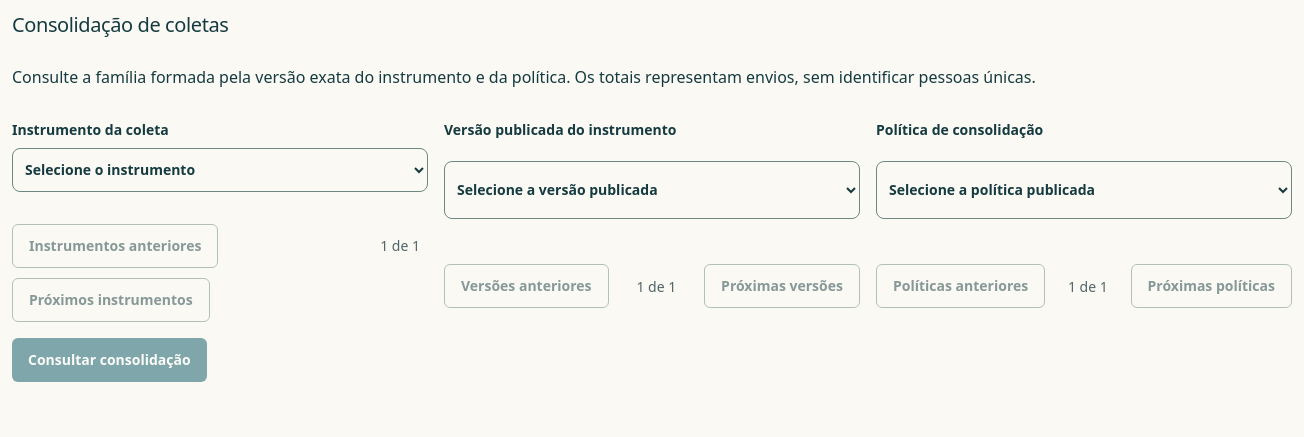
Test: recusa payload de outra família antes da renderização
Select "Instrumento coletivo" in the dropdown labelled "Instrumento da coleta" at {"x": 220, "y": 170}, box x1=12 y1=148 x2=428 y2=192
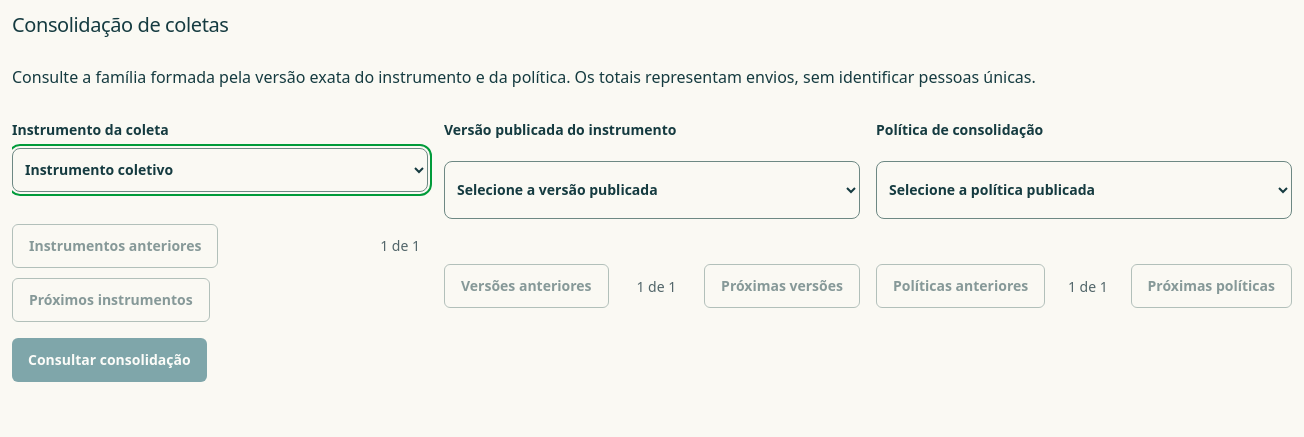
Select "Planejamento publicado · v2 · Demonstração" in the dropdown labelled "Versão publicada do instrumento" at {"x": 652, "y": 190}, box x1=444 y1=161 x2=860 y2=219
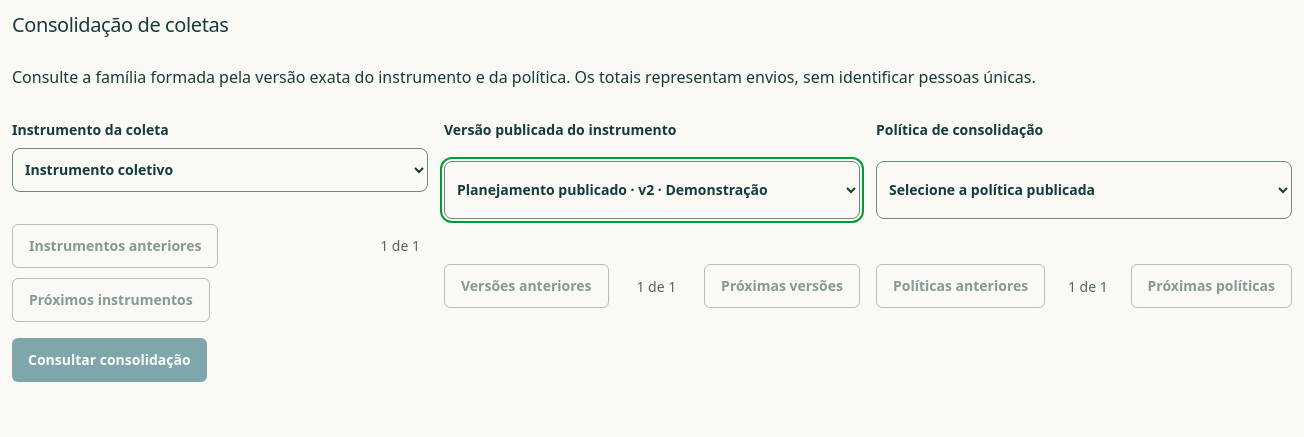
Select "Política v3 · Demonstração" in the dropdown labelled "Política de consolidação" at {"x": 1084, "y": 190}, box x1=876 y1=161 x2=1292 y2=219
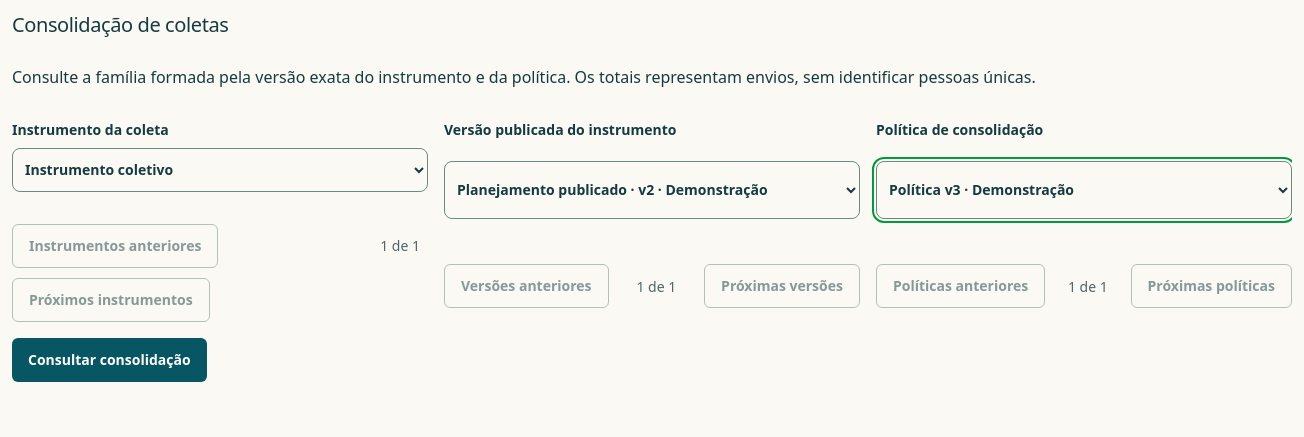
Click the button "Consultar consolidação" at {"x": 109, "y": 360}, box x1=12 y1=338 x2=207 y2=382
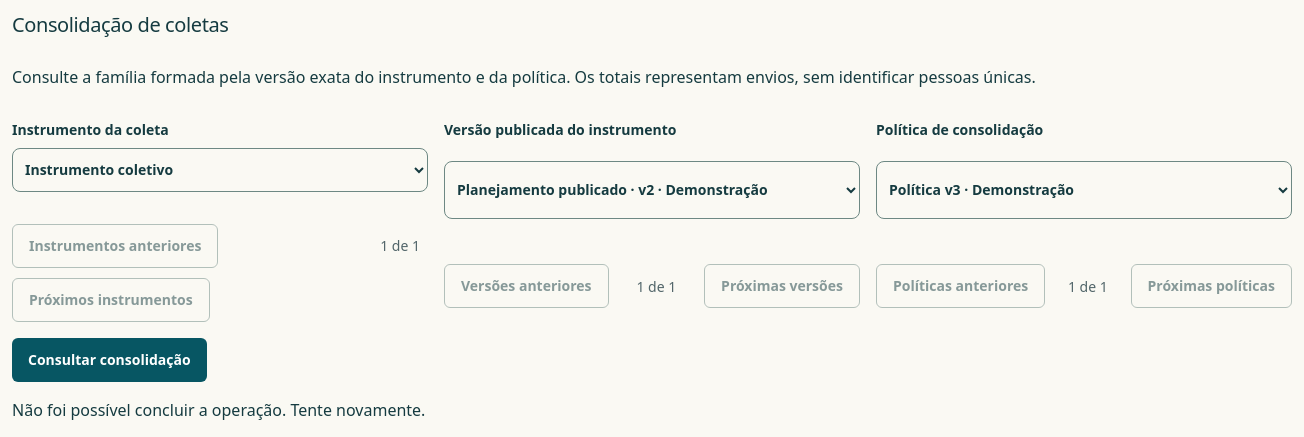
Check: the message "Não foi possível concluir a operação. Tente novamente." is shown, box x1=12 y1=399 x2=425 y2=421
